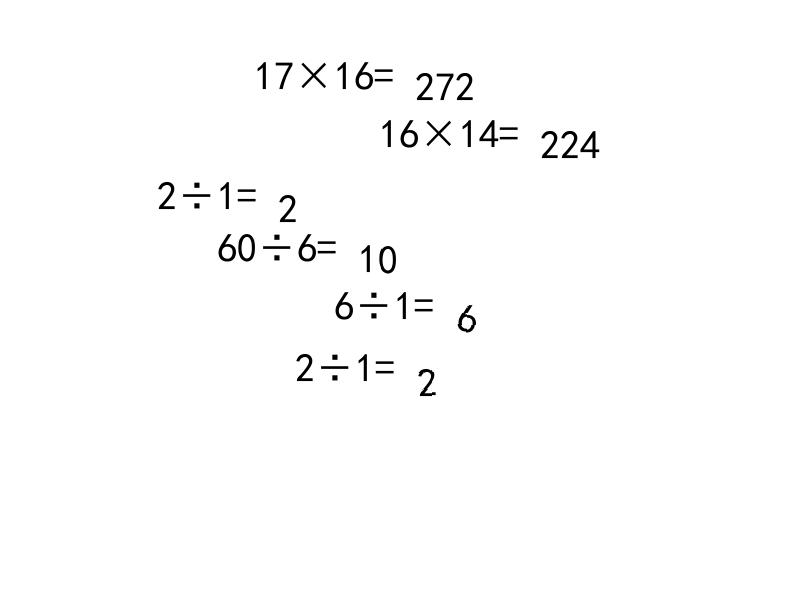0: (237, 227, 257, 256), (367, 227, 387, 256)
1: (217, 175, 237, 204), (347, 227, 367, 256), (355, 347, 375, 376), (254, 55, 274, 83), (334, 55, 354, 83), (379, 113, 399, 141), (459, 113, 479, 141), (394, 285, 414, 313)
2: (157, 175, 177, 204), (267, 175, 287, 204), (295, 347, 315, 376), (405, 347, 425, 376), (404, 55, 424, 83), (444, 55, 464, 83), (529, 113, 549, 141), (549, 113, 569, 141)
4: (479, 113, 499, 141), (569, 113, 589, 141)
6: (217, 227, 237, 256), (297, 227, 317, 256), (354, 55, 374, 83), (399, 113, 419, 141), (334, 285, 354, 313), (444, 285, 464, 313)
7: (274, 55, 294, 83), (424, 55, 444, 83)
=: (237, 175, 257, 204), (317, 227, 337, 256), (375, 347, 395, 376), (374, 55, 394, 83), (499, 113, 519, 141), (414, 285, 434, 313)
×: (294, 55, 334, 83), (419, 113, 459, 141)
÷: (177, 175, 217, 204), (257, 227, 297, 256), (315, 347, 355, 376), (354, 285, 394, 313)
